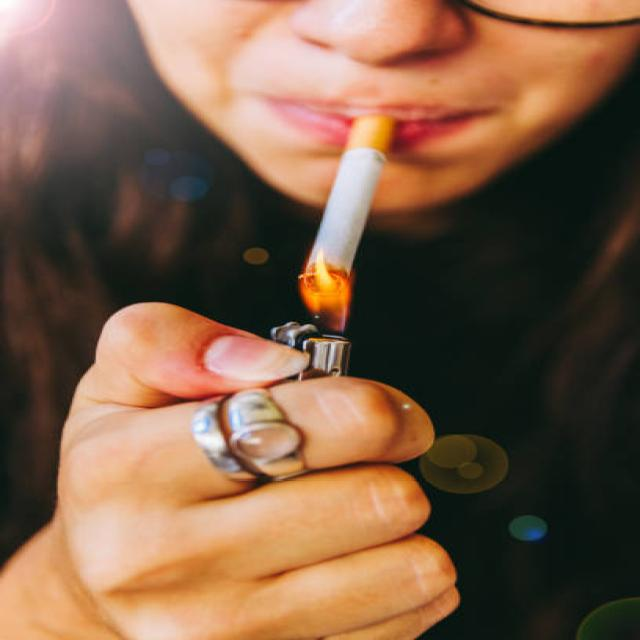fire: (300, 251, 352, 332)
